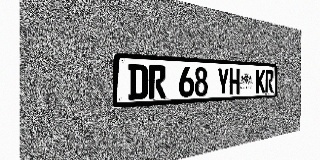6: (179, 66, 194, 97)
8: (194, 67, 208, 96)
D: (128, 64, 148, 100)
H: (229, 68, 240, 95)
K: (256, 69, 265, 93)
R: (148, 65, 166, 99), (265, 70, 273, 93)
Y: (217, 68, 229, 95)
